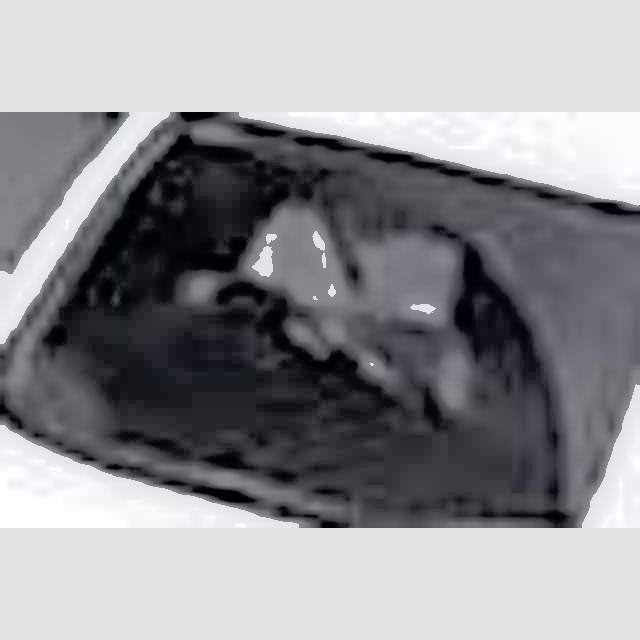pakai: (208, 176, 472, 424)
